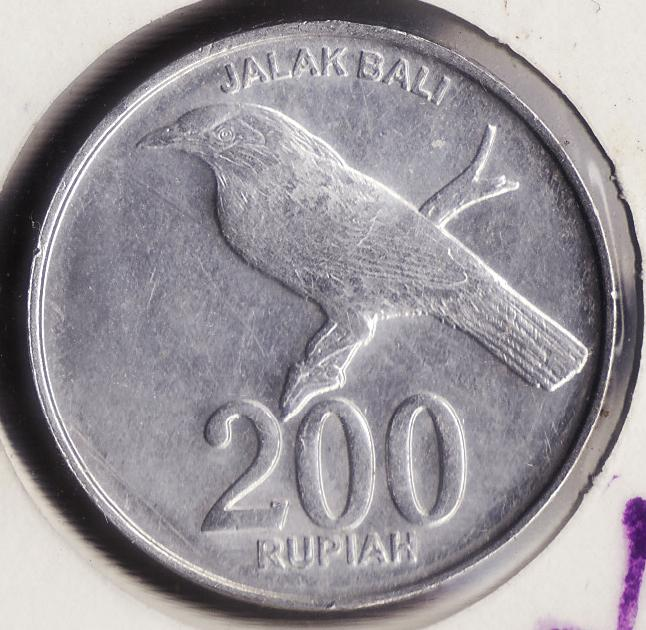coin_200_e2003: (24, 18, 620, 619)
